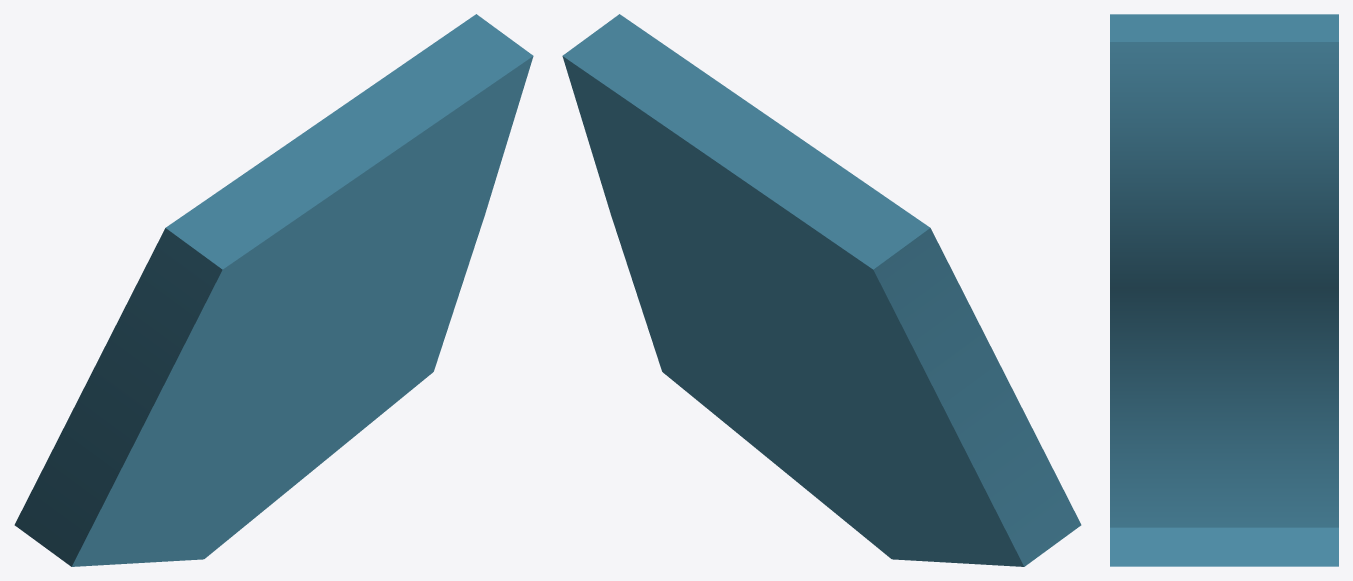
File: NexusA_Trigger_41.fbx
3 renders of one model, left to right at view 1: azimuth 30°, elevation 25°; view 2: azimuth 150°, elevation 25°; view 3: azimuth 270°, elevation 25°, orthographic. The views are drawn at different scales.
Visible parts, largest first — view 1: pCube34; view 2: pCube34; view 3: pCube34.
Boxes of the visible parts, x1,y1,x2,y2 form: pCube34: [14, 14, 533, 566]; pCube34: [562, 14, 1081, 566]; pCube34: [1110, 14, 1338, 566].
Bounding box in the file's own units: 40.34 × 35.31 × 8.65.
